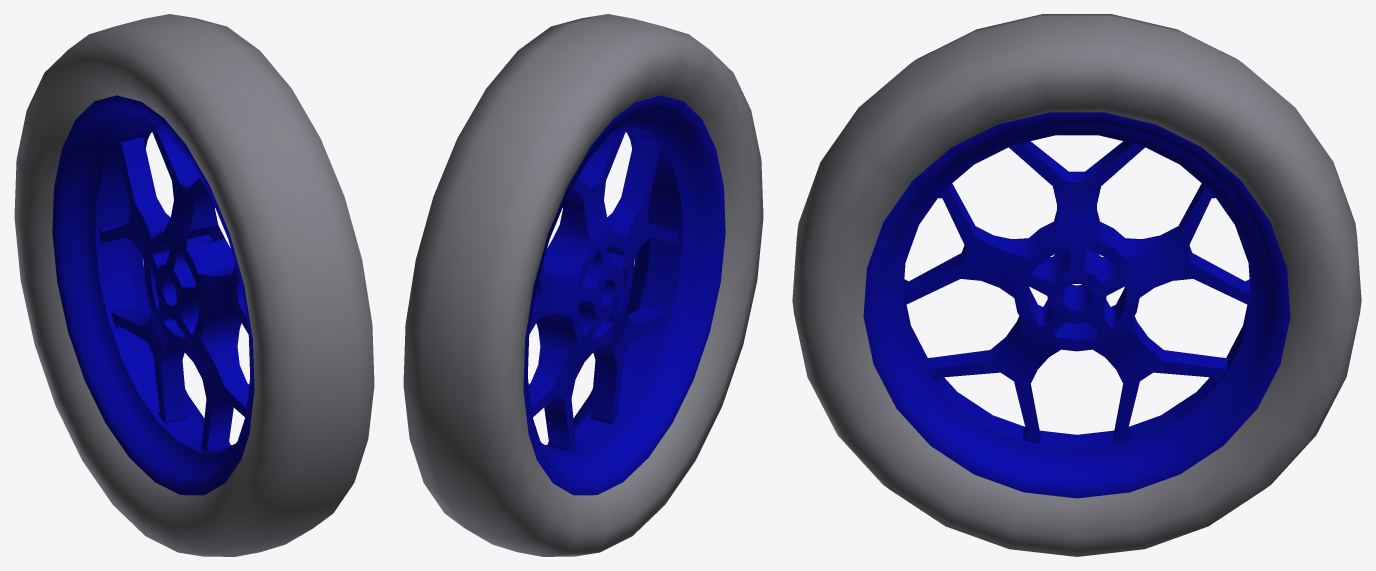
File: Hinterrad.fbx
The picture shows the model from 3 angles, left to right: view 1: azimuth 30°, elevation 25°; view 2: azimuth 150°, elevation 25°; view 3: azimuth 270°, elevation 25°; orthographic projection. The views are drawn at different scales.
Parts seen in each view (by area): view 1: simetrico.001; view 2: simetrico.001; view 3: simetrico.001.
Boxes of the visible parts, <box> form: simetrico.001: <box>14,14,374,556</box>; simetrico.001: <box>403,14,763,556</box>; simetrico.001: <box>792,14,1361,556</box>.
Bounding box in the file's own units: 61.55 × 274 × 275.
